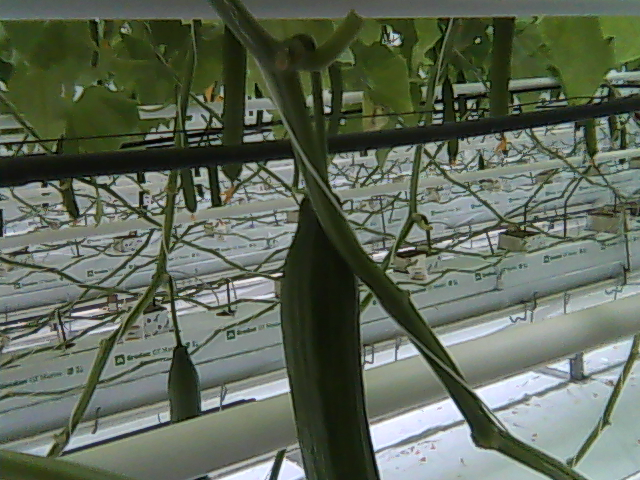concombre: (276, 178, 385, 480)
